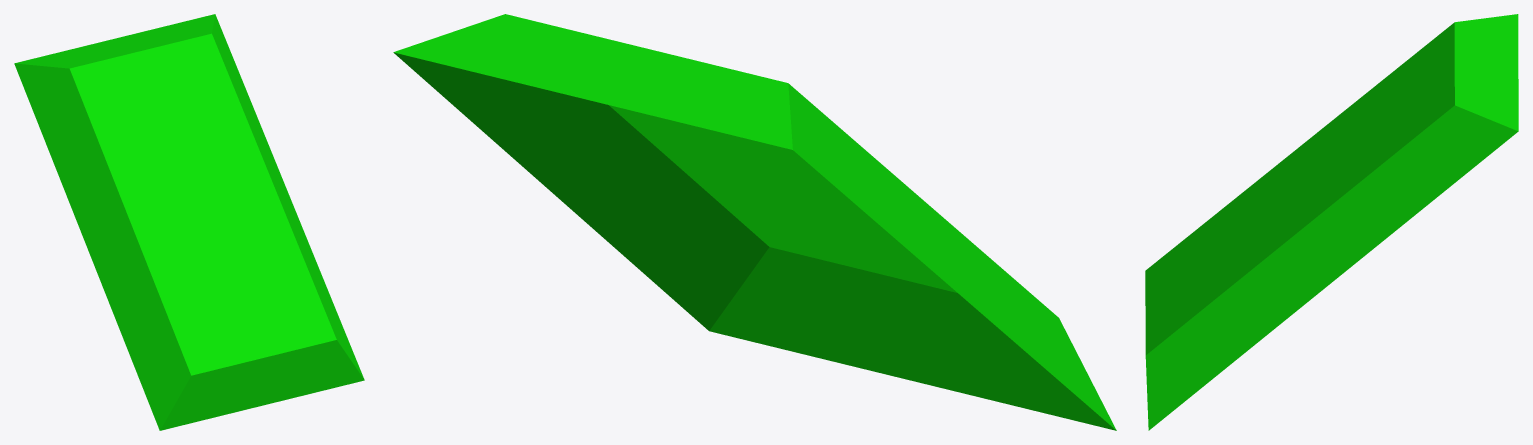
The model's file is Weapon_button.FBX.
The picture shows the model from 3 angles, left to right: view 1: azimuth 30°, elevation 25°; view 2: azimuth 150°, elevation 25°; view 3: azimuth 270°, elevation 25°; orthographic projection. The views are drawn at different scales.
Parts seen in each view (by area): view 1: Weapon_button; view 2: Weapon_button; view 3: Weapon_button.
Boxes of the visible parts, x1,y1,x2,y2 form: Weapon_button: [14, 14, 364, 430]; Weapon_button: [393, 14, 1116, 430]; Weapon_button: [1145, 14, 1518, 430].
Bounding box in the file's own units: 0.9938 × 1.17 × 1.28.
